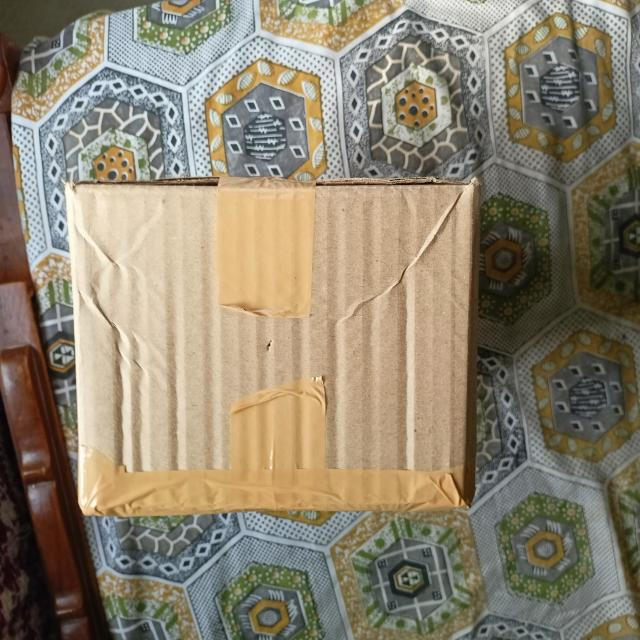box: (69, 183, 473, 510)
